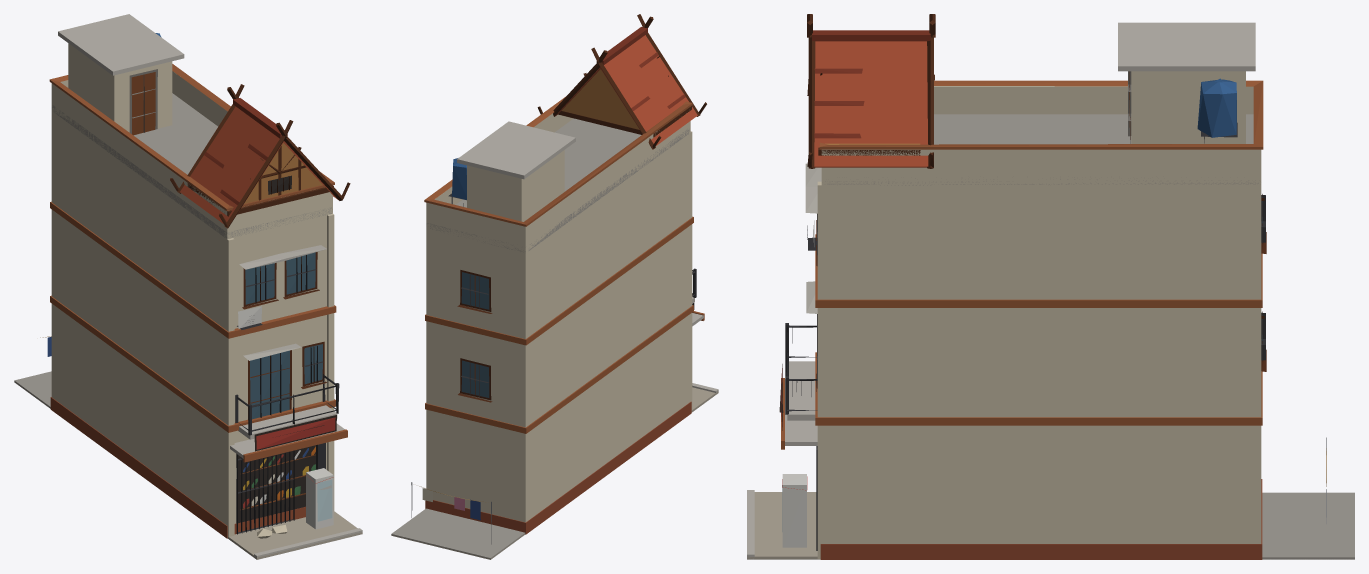
Rendered from bay2_mid2.glb.
3 renders of one model, left to right at view 1: azimuth 30°, elevation 25°; view 2: azimuth 150°, elevation 25°; view 3: azimuth 270°, elevation 25°, orthographic. The views are drawn at different scales.
Parts seen in each view (by area): view 1: body, windows; view 2: body, windows; view 3: body.
Part boxes in pixels (bbox=[...]): body: bbox=[14, 14, 362, 559]; windows: bbox=[236, 175, 322, 523]; body: bbox=[391, 14, 718, 559]; windows: bbox=[461, 272, 489, 397]; body: bbox=[747, 14, 1354, 559].
Bounding box in the file's own units: 4.98 × 14.73 × 15.9.
